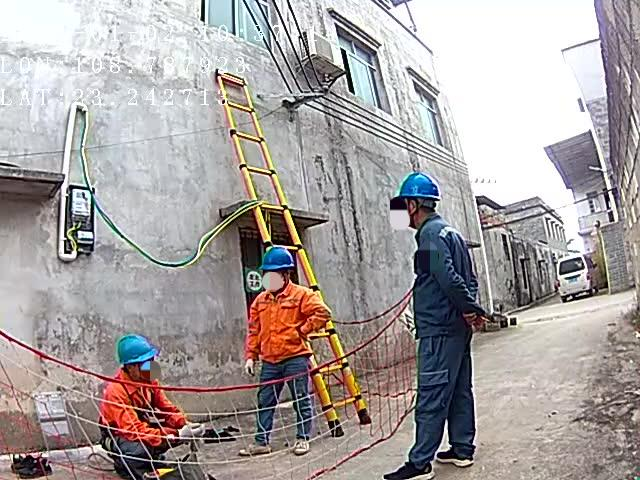halt: (396, 175, 445, 229), (120, 337, 163, 380), (262, 248, 298, 292)
inear: (406, 200, 425, 225)
